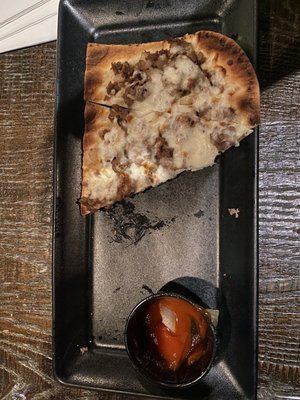sandwich: (79, 31, 260, 216)
